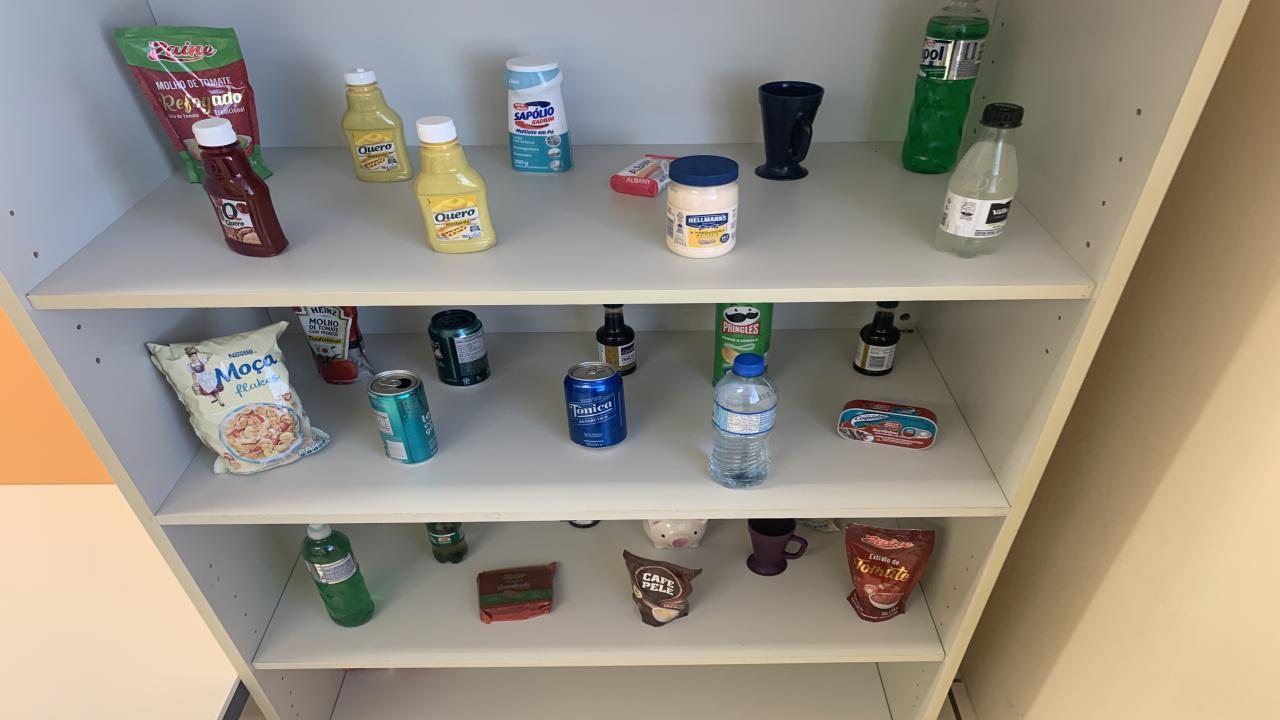Cleaner-Cleanup_Items: (505, 56, 572, 174)
Coffee-Pantry_Items: (622, 551, 702, 626)
Detergent-Cleanup_Items: (902, 0, 990, 174), (300, 523, 375, 626)
English_Sauce-Pantry_Items: (852, 302, 900, 377), (595, 304, 635, 375), (570, 519, 600, 529)
Flakes-Snacks: (148, 321, 330, 474)
Guarana-Drinks: (425, 523, 468, 564)
Guarana_Can-Drinks: (428, 309, 490, 386)
Guava-Snacks: (478, 562, 558, 624)
Ketchup-Pantry_Items: (192, 116, 288, 257)
Mayonnaise-Pantry_Items: (665, 156, 738, 259)
Mustard-Pantry_Items: (415, 116, 495, 253), (342, 68, 412, 182)
Pig_Safe-Miscellaneous: (642, 519, 708, 549)
Pringles-Snacks: (712, 304, 772, 382)
Soap-Cleanup_Items: (610, 154, 675, 197)
Soda-Drinks: (935, 103, 1025, 259)
Tea-Drinks: (368, 369, 438, 463)
Tomato_Sauce-Pantry_Items: (115, 26, 270, 182), (845, 523, 935, 622), (292, 306, 375, 384)
Tonic-Drinks: (565, 362, 628, 448)
Tuna_Can-Pantry_Items: (838, 399, 938, 450)
Water_Bottle-Drinks: (710, 352, 778, 488)
